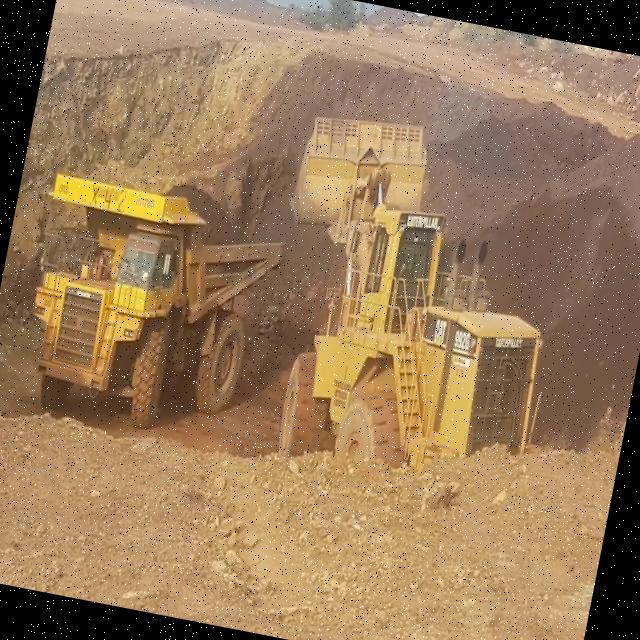Dump Truck: (9, 137, 300, 456)
Loader: (238, 90, 591, 510)
